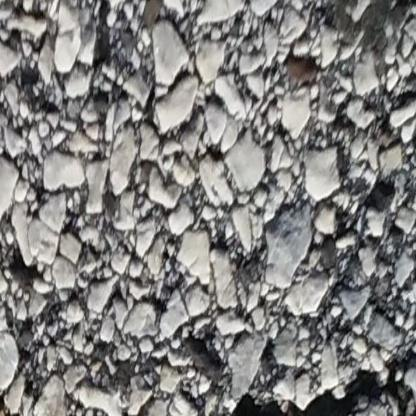Cracks: (211, 371, 416, 416), (0, 399, 51, 416)
